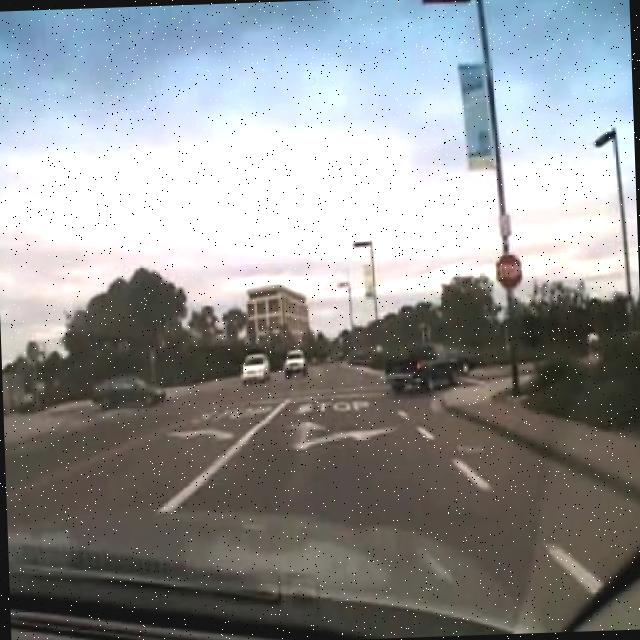Stop: (495, 252, 524, 290)
